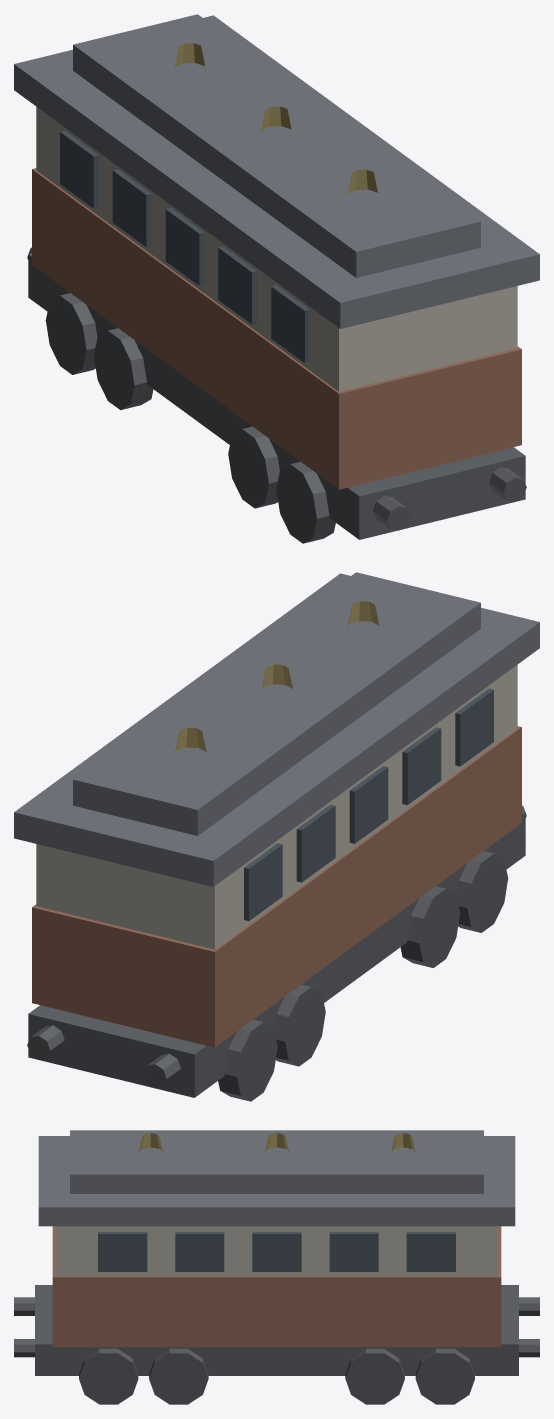
Rendered from rail_carriage.glb.
The picture shows the model from 3 angles, top to bottom: view 1: azimuth 30°, elevation 25°; view 2: azimuth 150°, elevation 25°; view 3: azimuth 270°, elevation 25°; orthographic projection. The views are drawn at different scales.
Bounding box in the file's own units: 0.48 × 0.7358 × 1.5.
